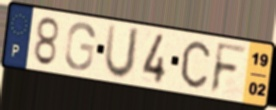4: (140, 31, 168, 86)
8: (33, 15, 61, 67)
C: (180, 39, 212, 90)
F: (208, 40, 250, 96)
G: (63, 21, 98, 73)
U: (102, 22, 142, 82)
